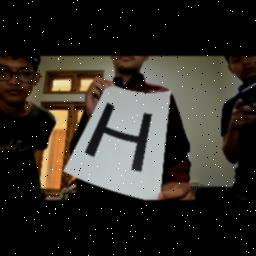h: (80, 98, 154, 178)
